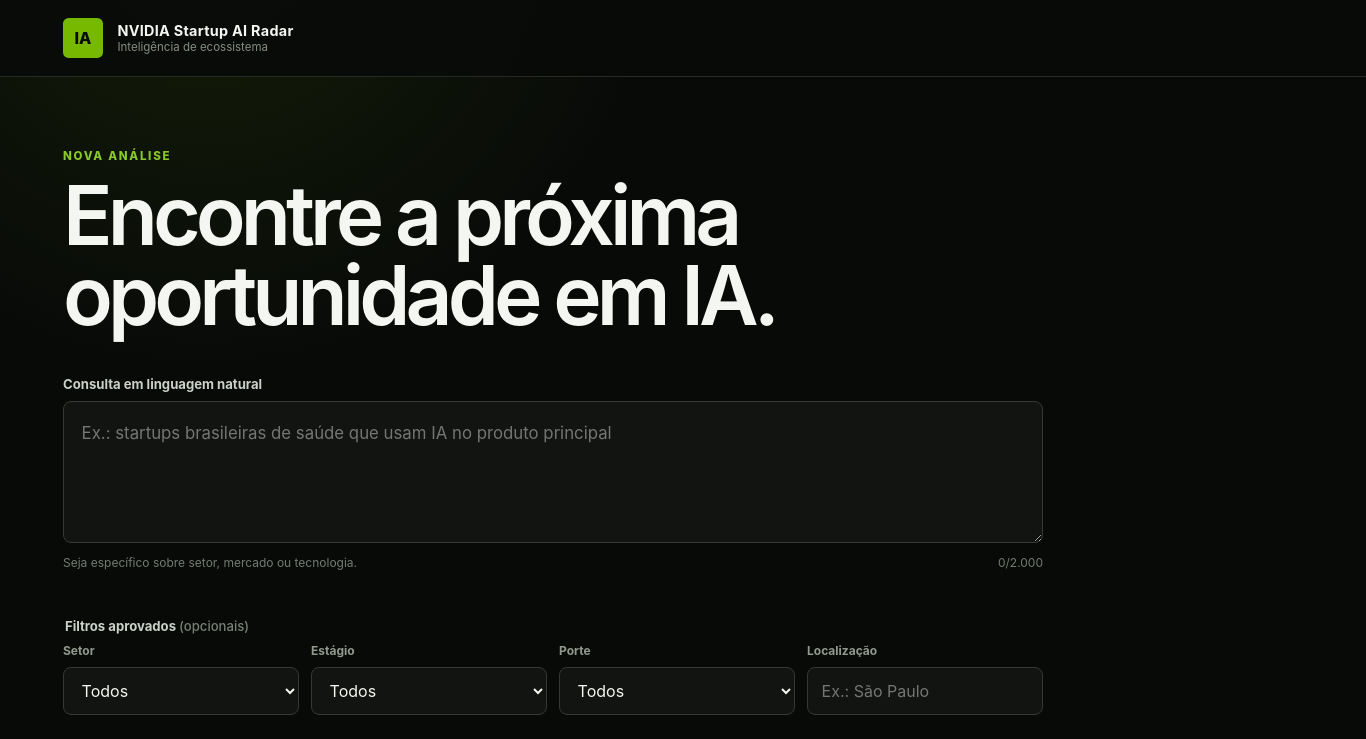
Test: HomePage › sanitiza respostas incompatíveis
Replace the text in the text box labelled "Consulta em linguagem natural" with "startups de saúde com IA" at (553, 472), box [63, 401, 1043, 542]
(page scrolled)
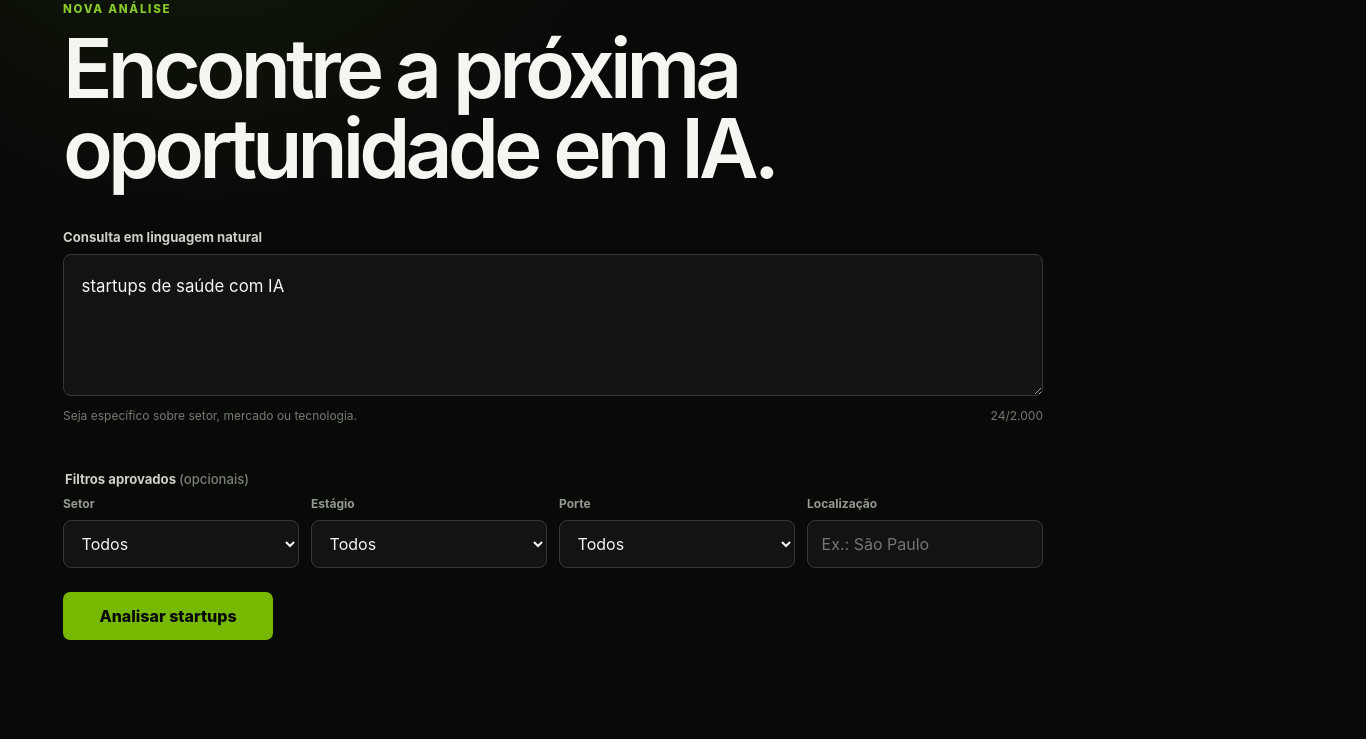
Click the button "Analisar startups" at (168, 616), box [63, 592, 273, 640]
(page scrolled)
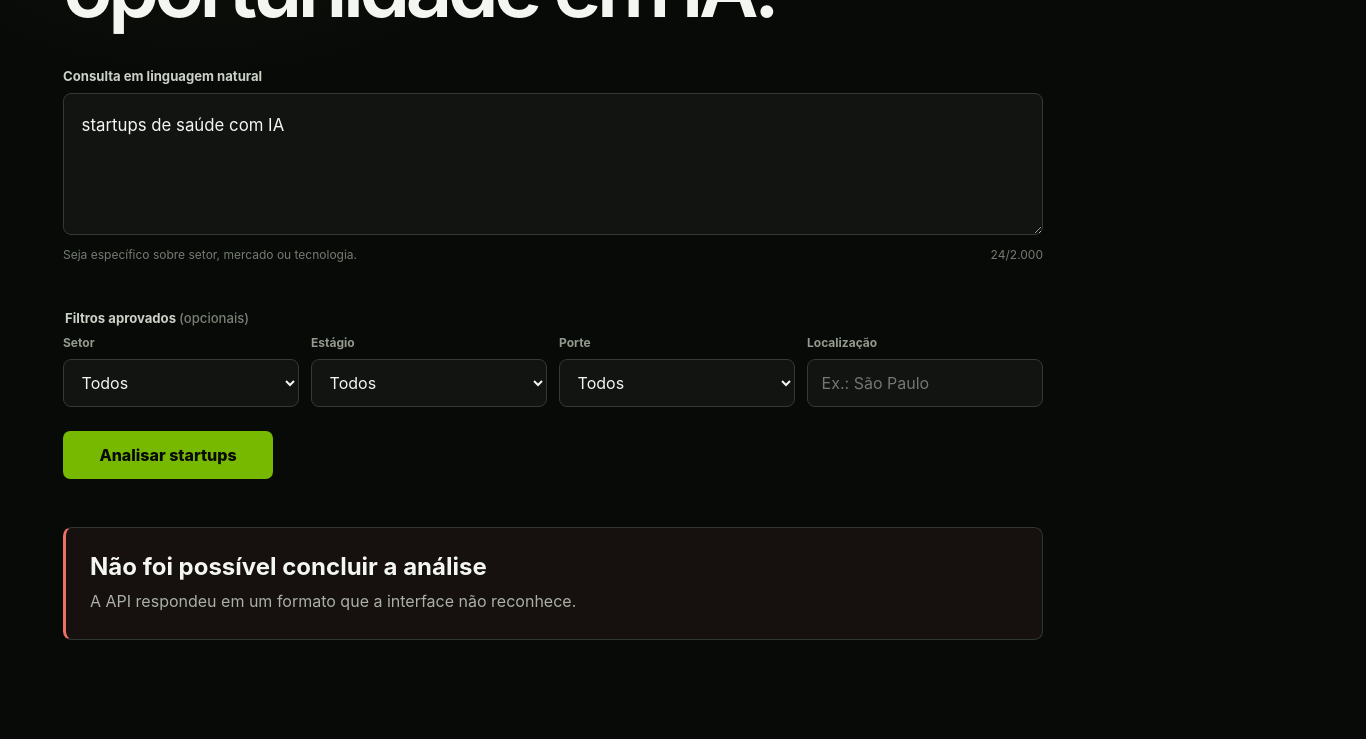
Result: the message shows "formato que a interface não reconhece" at [90, 591, 576, 611]
